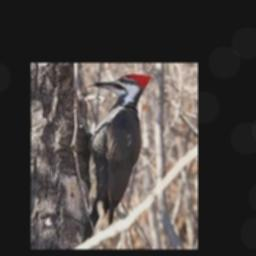Woodpecker: (86, 74, 151, 241)
